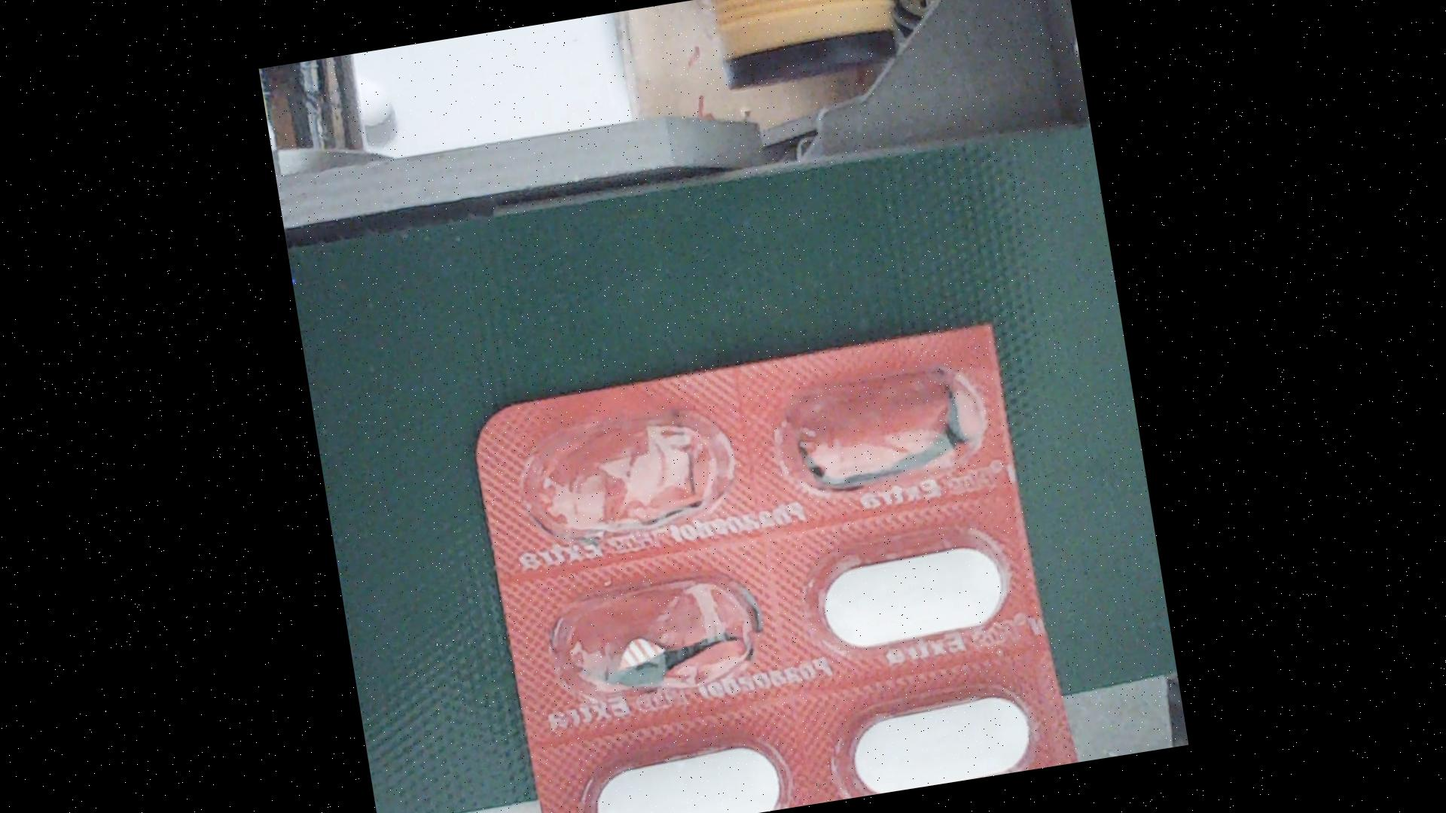Empty: (542, 566, 774, 722), (512, 396, 743, 551), (765, 350, 996, 505)
Full: (798, 521, 1030, 677), (827, 668, 1053, 801), (571, 722, 796, 813)
